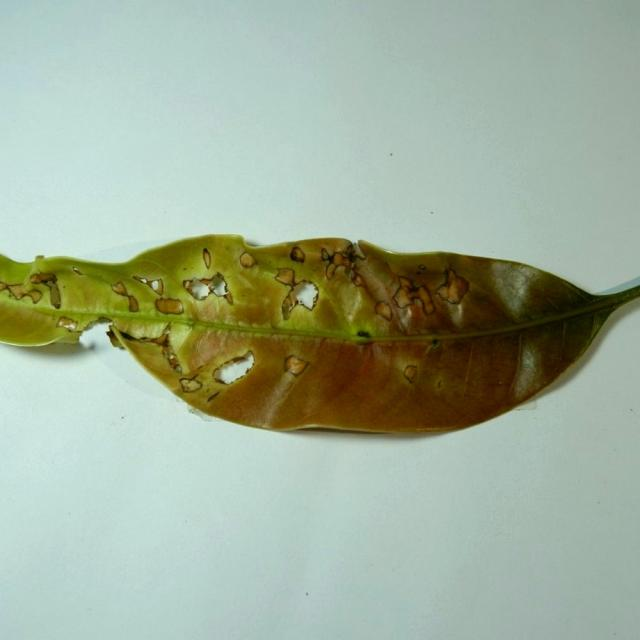Anthracnose: (435, 267, 471, 306), (77, 319, 118, 351), (291, 287, 331, 317), (214, 356, 254, 385), (282, 354, 311, 378), (156, 298, 184, 315), (209, 275, 229, 298), (189, 278, 211, 298), (178, 376, 202, 394), (273, 268, 296, 286), (238, 250, 257, 269), (404, 364, 418, 384), (202, 248, 211, 270), (150, 279, 162, 295)
Mango: (0, 235, 639, 440)
